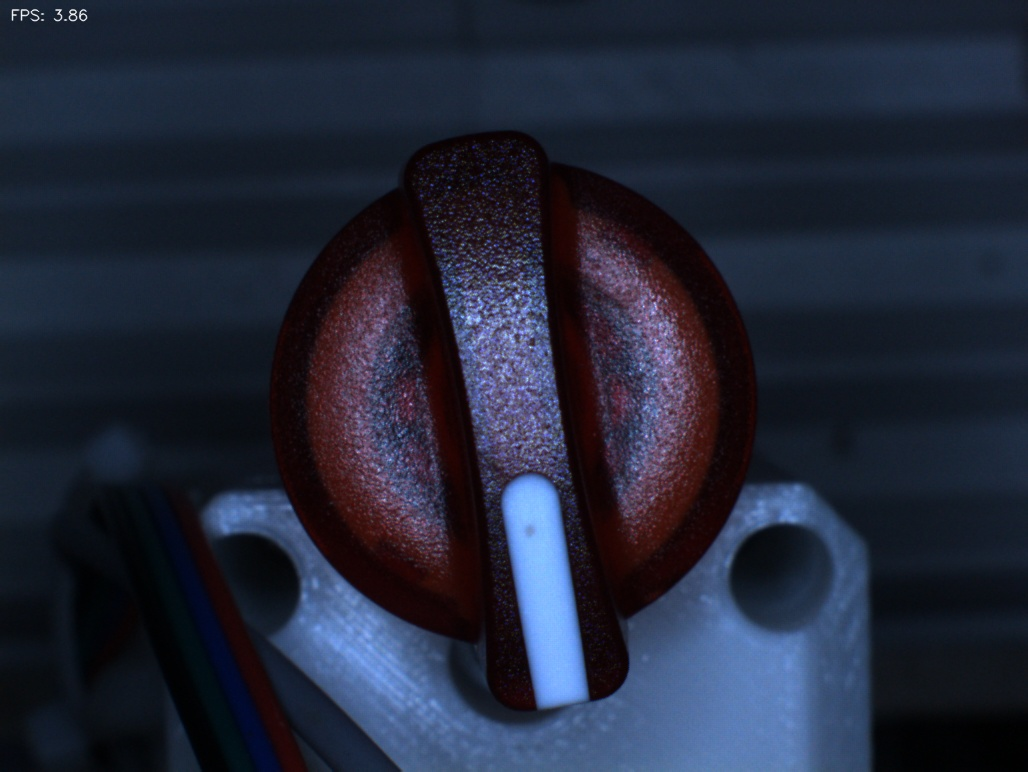PointNoir: (493, 494, 563, 570)
